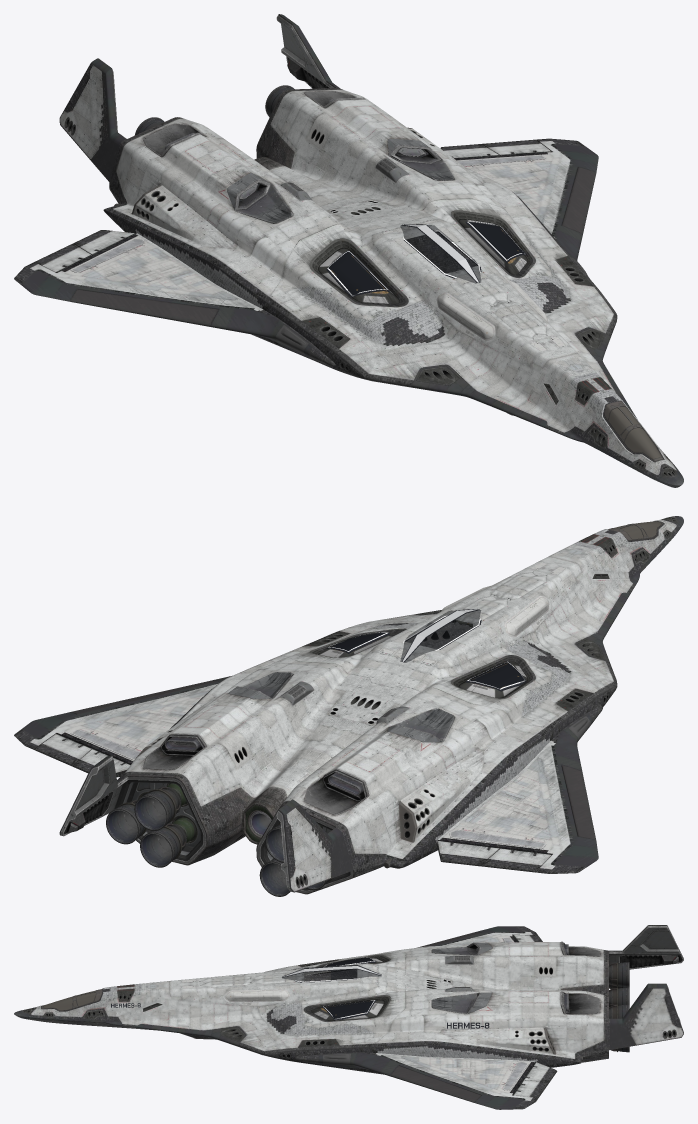
Rendered from hermes8-ship.glb.
3 renders of one model, top to bottom at view 1: azimuth 30°, elevation 25°; view 2: azimuth 150°, elevation 25°; view 3: azimuth 270°, elevation 25°, orthographic. The views are drawn at different scales.
Visible parts, largest first — view 1: Object_6, Object_3, Object_18, Object_15, Object_7, Object_19, Object_14, Object_20, sheet.010, sheet.011, Object_4, sheet (+1 smaller); view 2: Object_3, Object_6, Object_18, Object_15, Object_14, Object_19, Object_7, Object_20, sheet.010, sheet.011; view 3: Object_3, Object_6, Object_18, Object_15, Object_7, Object_14, Object_19, Object_20, sheet, sheet.001, Object_4.
Part boxes in pixels (x1,y1,x2,y2): Object_6: (65, 118, 675, 476); Object_3: (59, 14, 515, 299); Object_18: (14, 138, 598, 366); Object_15: (161, 85, 683, 487); Object_7: (311, 129, 615, 346); Object_19: (34, 139, 551, 272); Object_14: (134, 117, 664, 462); Object_20: (109, 57, 477, 273); sheet.010: (326, 251, 389, 297); sheet.011: (327, 251, 388, 295); Object_4: (609, 407, 661, 458); sheet: (465, 222, 525, 263); Object_3: (59, 668, 537, 894); Object_6: (151, 517, 675, 886); Object_18: (14, 676, 602, 873); Object_15: (106, 516, 683, 866); Object_14: (106, 521, 664, 896); Object_19: (34, 733, 551, 872); Object_7: (157, 610, 472, 842); Object_20: (64, 792, 401, 877); sheet.010: (466, 663, 526, 691); sheet.011: (469, 662, 525, 689); Object_3: (398, 925, 683, 1067); Object_6: (23, 947, 554, 1074); Object_18: (295, 926, 538, 1109); Object_15: (14, 942, 629, 1052); Object_7: (224, 984, 675, 1072); Object_14: (40, 941, 629, 1011); Object_19: (512, 935, 557, 1097); Object_20: (550, 955, 682, 1067); sheet: (322, 1000, 375, 1020); sheet.001: (324, 1000, 373, 1019); Object_4: (44, 990, 95, 1010).
Size of the model in its own units: 48.55 by 11.74 by 75.
Materials: 13 (7 with a texture image).
